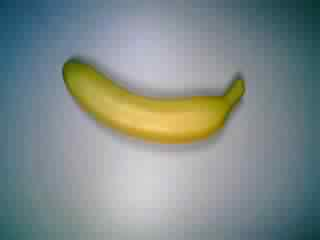banana: (61, 54, 250, 148)
